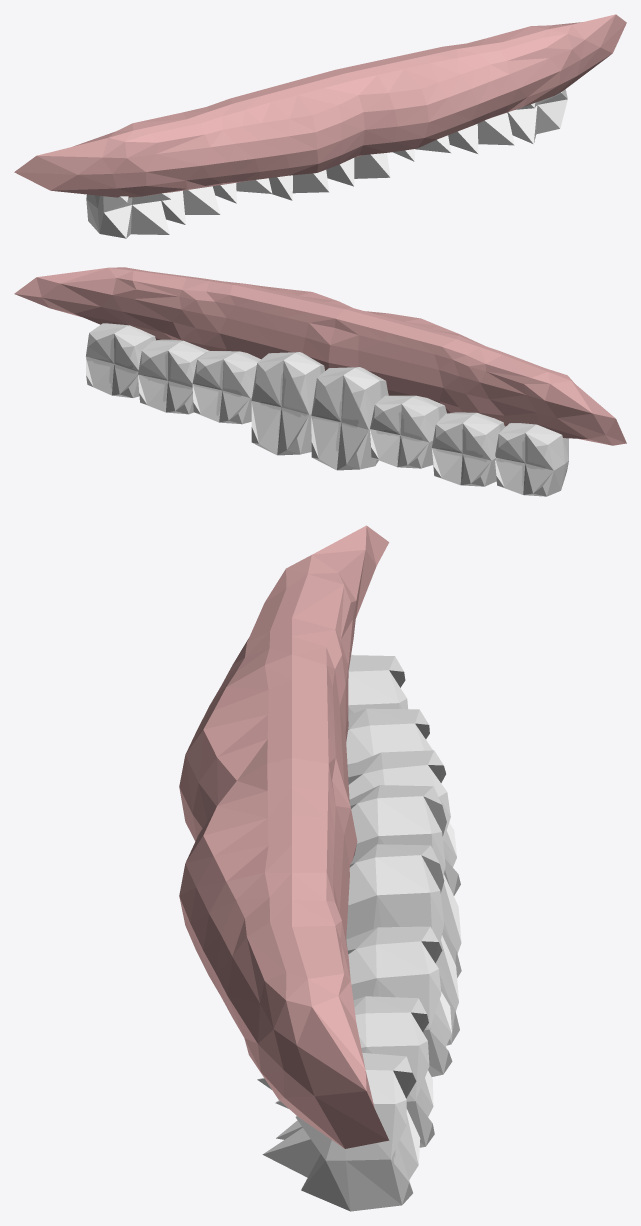
File: upperJaw.obj
The picture shows the model from 3 angles, top to bottom: view 1: azimuth 30°, elevation 25°; view 2: azimuth 150°, elevation 25°; view 3: azimuth 270°, elevation 25°; orthographic projection. The views are drawn at different scales.
Parts seen in each view (by area): view 1: 立方体.002; view 2: 立方体.002; view 3: 立方体.002.
Part boxes in pixels (box(x1,y1,x2,y2)): 立方体.002: box(14, 14, 626, 238); 立方体.002: box(14, 267, 626, 496); 立方体.002: box(179, 525, 461, 1211).
Size of the model in its own units: 34.54 by 6.94 by 6.89.
Materials: 1 (1 with a texture image).
